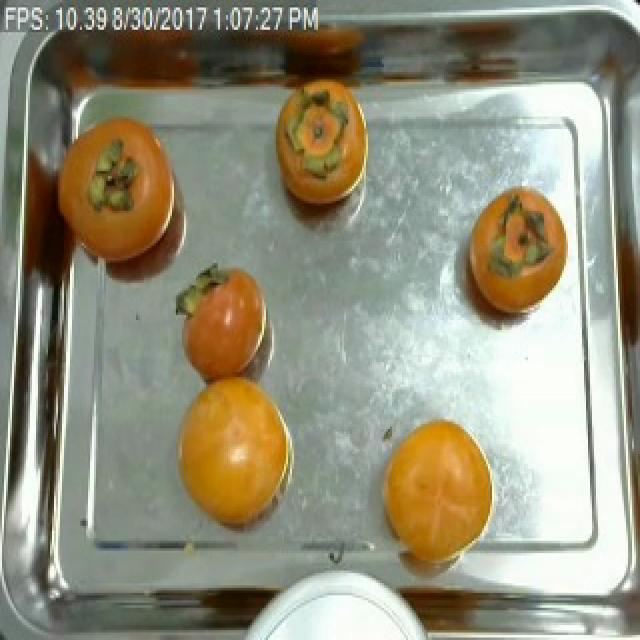Fruit: (46, 96, 196, 288), (368, 409, 508, 583), (168, 372, 300, 541), (262, 74, 382, 228), (454, 176, 570, 335), (172, 258, 272, 392)
